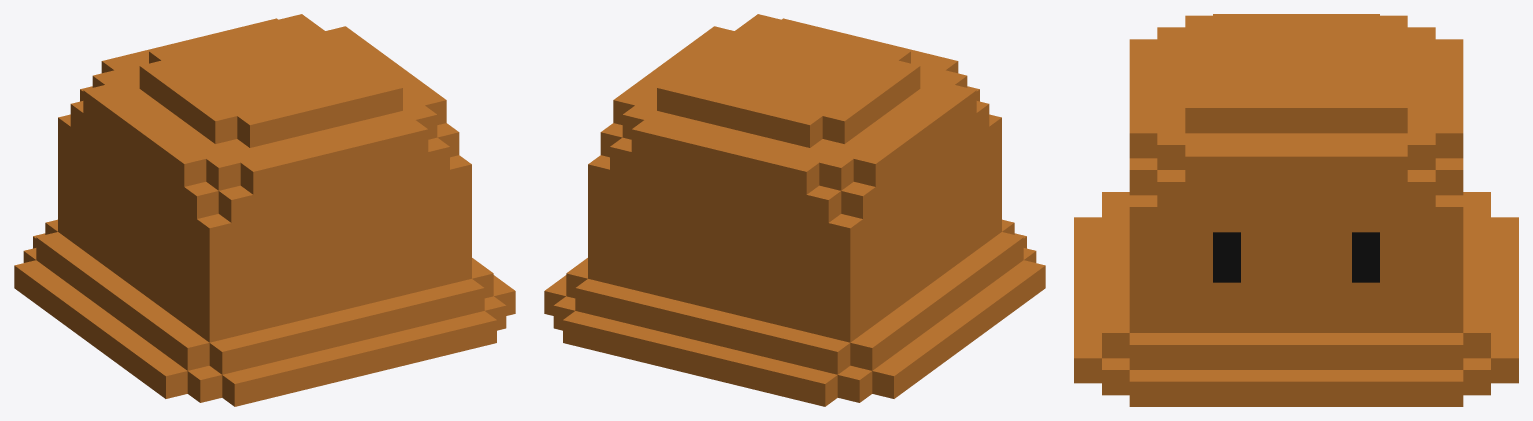
Rendered from slime5123.obj.
3 renders of one model, left to right at view 1: azimuth 30°, elevation 25°; view 2: azimuth 150°, elevation 25°; view 3: azimuth 270°, elevation 25°, orthographic. The views are drawn at different scales.
Size of the model in its own units: 1.6 by 1 by 1.6.
Materials: 1 (1 with a texture image).
